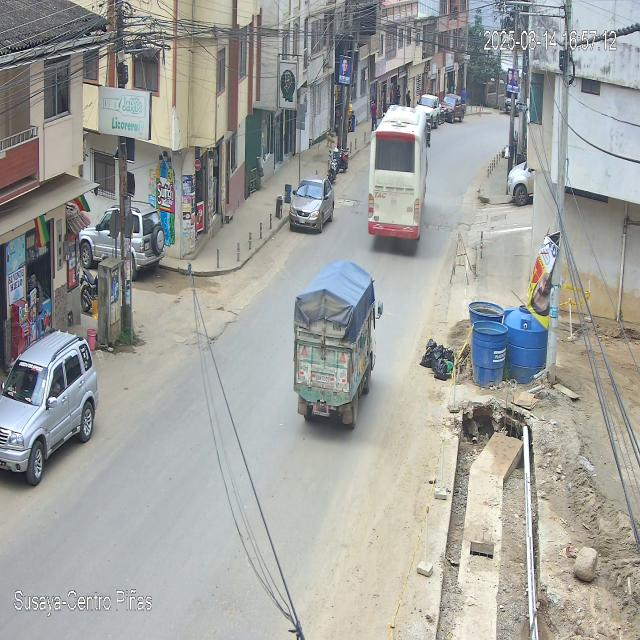BUS: (369, 106, 427, 240)
SUV: (0, 331, 100, 483)
TRUCK: (292, 262, 378, 432)
